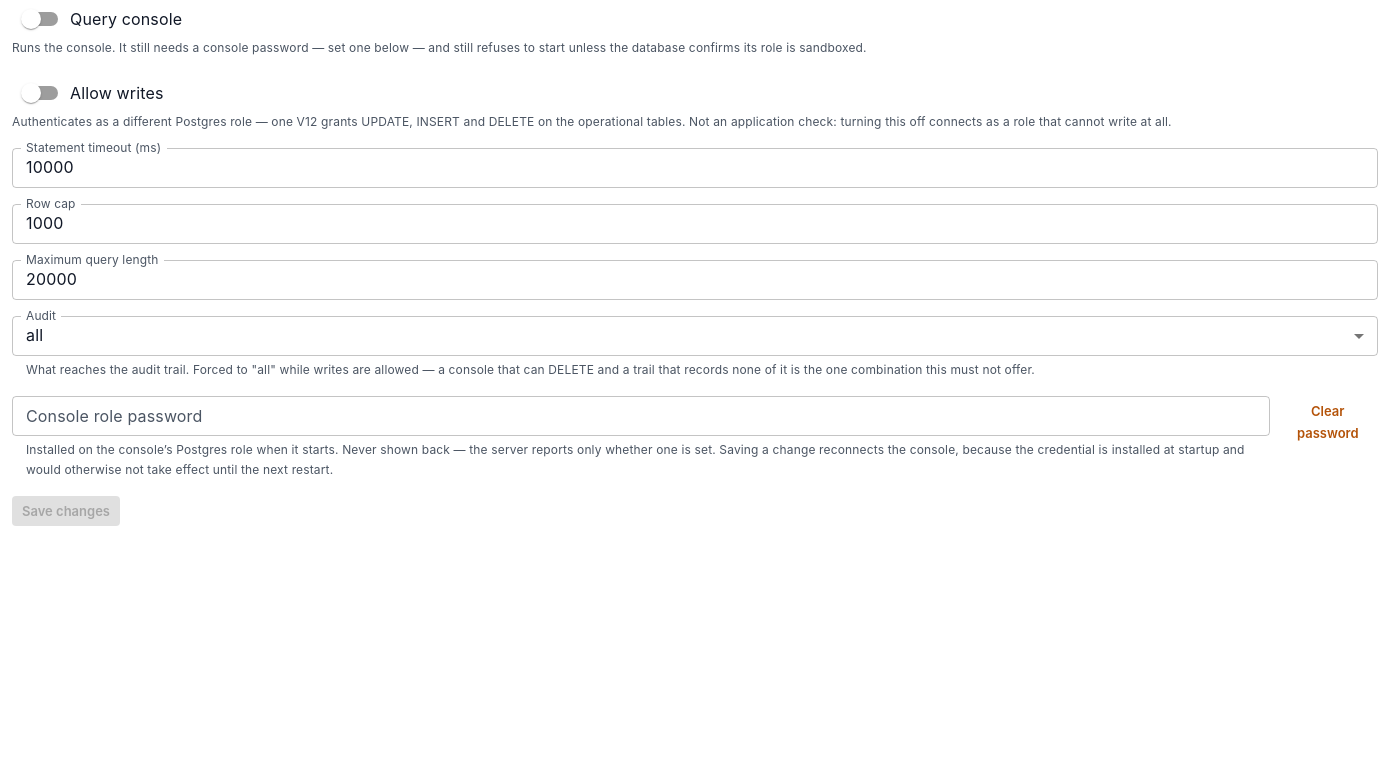
it: editing the settings › does not report a change that was undone
What coordinates should you click on to do the following:
click the switch labelled "Allow writes"
I would click on:
 (92, 93)
Its box is [21,83,164,103].
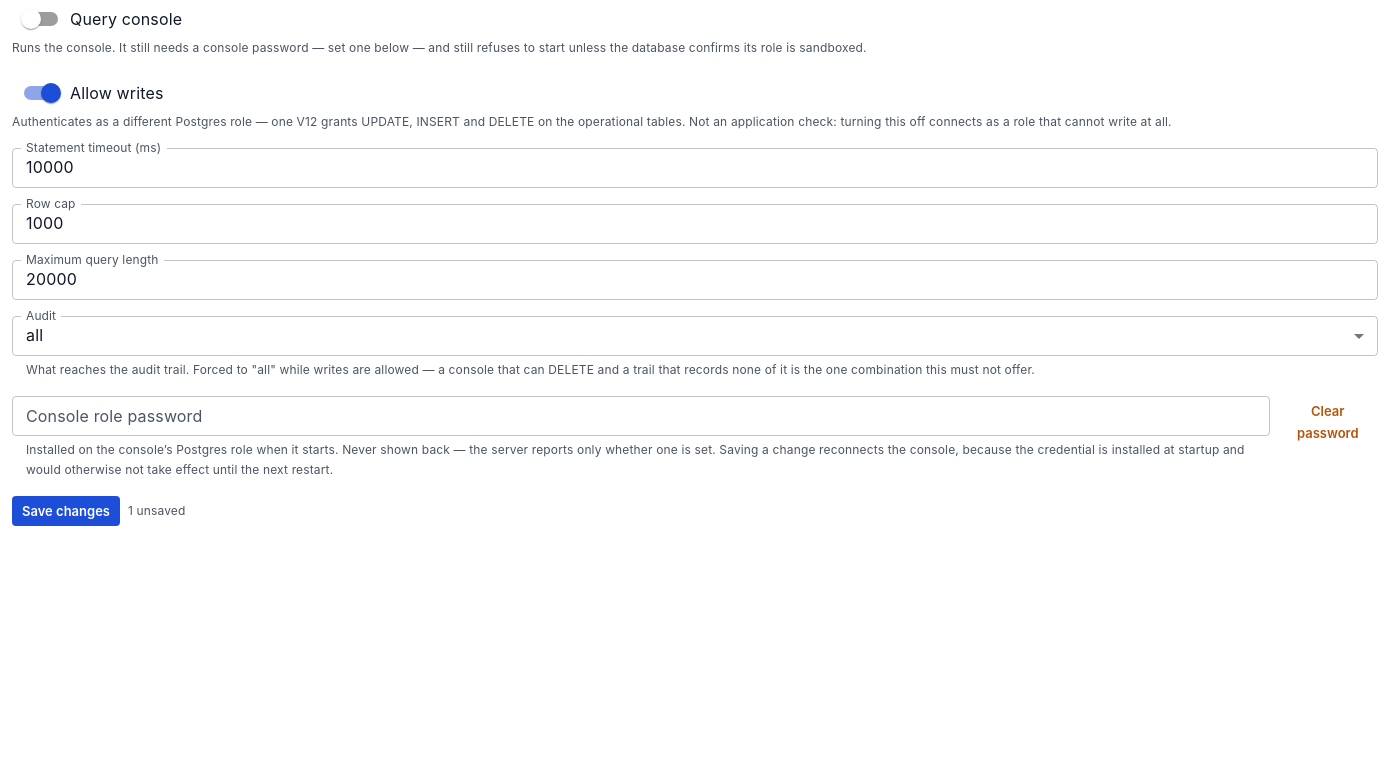
Now the text "1 unsaved" is shown, box [128,501,186,521]
What coordinates should you click on to do the following:
click the switch labelled "Allow writes"
I would click on:
 (94, 93)
Its box is [24,83,164,103].
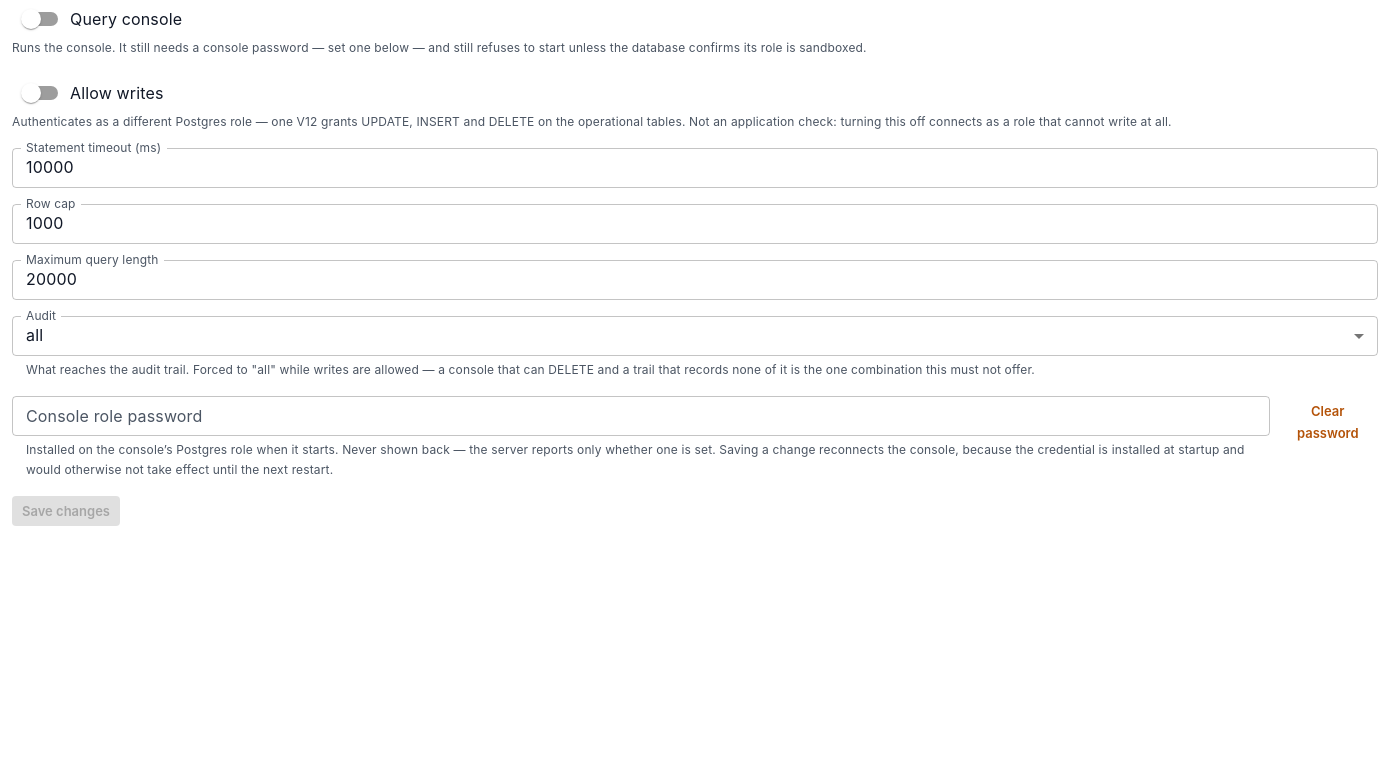
Now the text "unsaved" is gone
Now the button "Save changes" is disabled, box [12,496,120,526]
